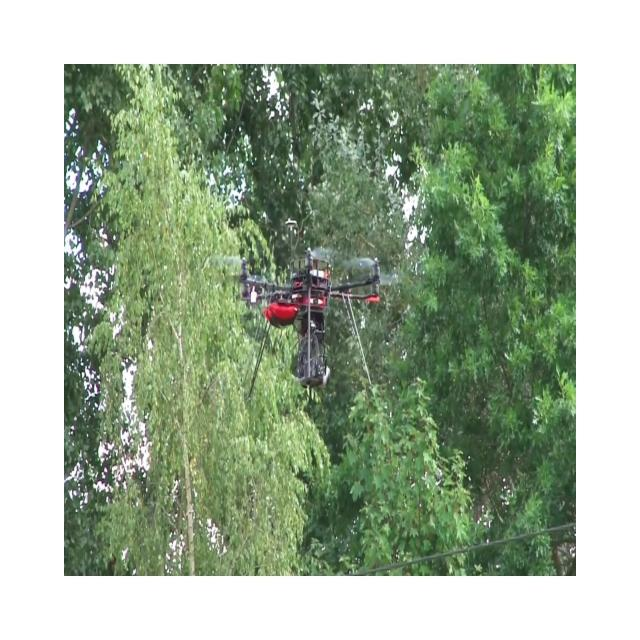drone: (204, 225, 383, 402)
